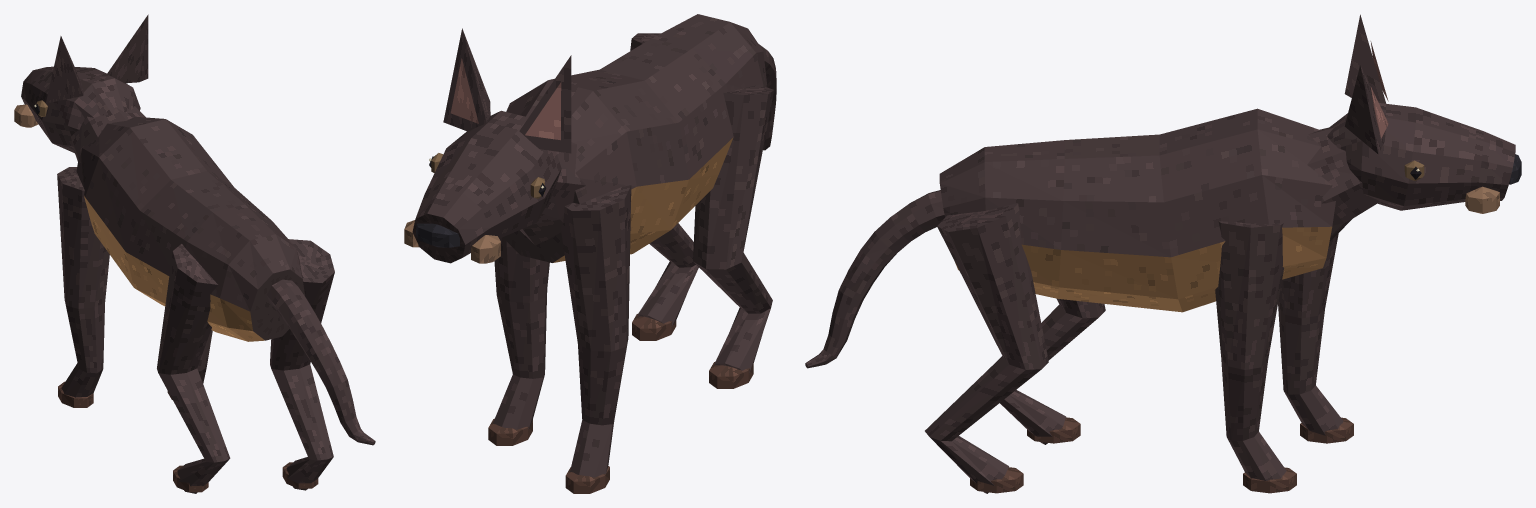
The model's file is mon_dog_gshepherd.glb.
The picture shows the model from 3 angles, left to right: view 1: azimuth 30°, elevation 25°; view 2: azimuth 150°, elevation 25°; view 3: azimuth 270°, elevation 25°; orthographic projection. The views are drawn at different scales.
Parts seen in each view (by area): view 1: closed_body; view 2: closed_body; view 3: closed_body.
Boxes of the visible parts, box(x1,y1,x2,y2) form: closed_body: box(14, 14, 375, 493); closed_body: box(404, 14, 776, 493); closed_body: box(805, 14, 1521, 493).
Size of the model in its own units: 0.3575 by 0.9587 by 1.45.
1 material, 1 textured.
